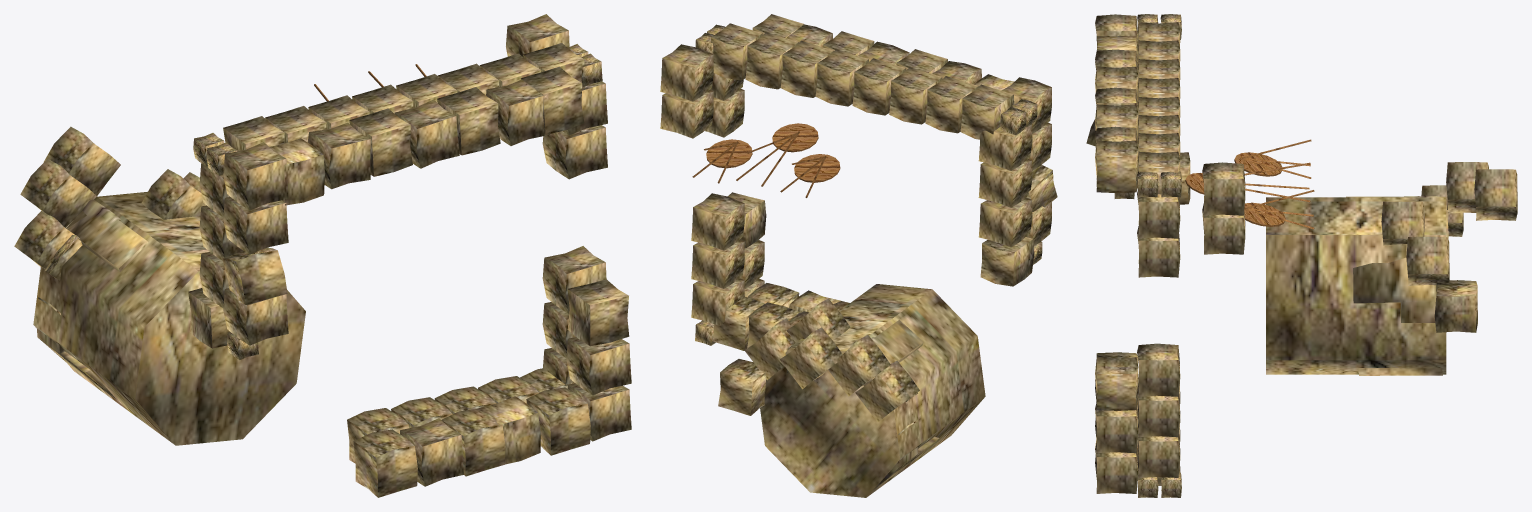
File: archery_000014.obj
3 renders of one model, left to right at view 1: azimuth 30°, elevation 25°; view 2: azimuth 150°, elevation 25°; view 3: azimuth 270°, elevation 25°, orthographic. The views are drawn at different scales.
Visible parts, largest first — view 1: Cylinder.003, Cylinder.054_Cylinder.062, Cylinder.053_Cylinder.061, Cylinder.010, Cylinder.013, Cylinder.043_Cylinder.049, Cylinder.006, Cylinder.012, Cylinder.027, Cylinder.029, Cylinder.009, Cylinder.042_Cylinder.048 (+33 smaller); view 2: Cylinder.003, Cylinder.054_Cylinder.062, Cylinder.055_Cylinder.063, Cylinder.018, Cylinder.014, Cylinder.047_Cylinder.053, Cylinder.046_Cylinder.052, Cylinder.021, Cylinder.019, Cylinder.022, Cylinder.023, Cylinder.025 (+31 smaller); view 3: Cylinder.003, Cylinder.055_Cylinder.063, Cylinder.054_Cylinder.062, Cylinder.053_Cylinder.061, Cylinder.013, Cylinder.034, Cylinder.014, Cylinder.018, Cylinder.012, Cylinder.016, Cylinder.011, Cylinder.020 (+24 smaller).
Boxes of the visible parts, bbox=[...] form: Cylinder.003: bbox=[33, 191, 305, 445]; Cylinder.054_Cylinder.062: bbox=[14, 126, 120, 280]; Cylinder.053_Cylinder.061: bbox=[37, 199, 148, 399]; Cylinder.010: bbox=[353, 429, 417, 497]; Cylinder.013: bbox=[567, 279, 629, 346]; Cylinder.043_Cylinder.049: bbox=[223, 142, 288, 210]; Cylinder.006: bbox=[526, 387, 590, 455]; Cylinder.012: bbox=[566, 337, 631, 395]; Cylinder.027: bbox=[307, 122, 370, 189]; Cylinder.029: bbox=[394, 99, 459, 168]; Cylinder.009: bbox=[400, 418, 463, 486]; Cylinder.042_Cylinder.048: bbox=[223, 197, 288, 254]; Cylinder.003: bbox=[760, 284, 985, 497]; Cylinder.054_Cylinder.062: bbox=[780, 327, 919, 422]; Cylinder.055_Cylinder.063: bbox=[718, 298, 850, 415]; Cylinder.018: bbox=[691, 193, 744, 250]; Cylinder.014: bbox=[660, 44, 713, 101]; Cylinder.047_Cylinder.053: bbox=[980, 237, 1034, 286]; Cylinder.046_Cylinder.052: bbox=[978, 197, 1032, 247]; Cylinder.021: bbox=[815, 49, 868, 106]; Cylinder.019: bbox=[691, 239, 744, 288]; Cylinder.022: bbox=[852, 58, 905, 115]; Cylinder.023: bbox=[889, 67, 942, 124]; Cylinder.025: bbox=[960, 84, 1014, 139]; Cylinder.003: bbox=[1266, 197, 1446, 374]; Cylinder.055_Cylinder.063: bbox=[1381, 201, 1477, 332]; Cylinder.054_Cylinder.062: bbox=[1421, 162, 1517, 236]; Cylinder.053_Cylinder.061: bbox=[1346, 196, 1448, 375]; Cylinder.013: bbox=[1095, 357, 1138, 410]; Cylinder.034: bbox=[1095, 140, 1138, 193]; Cylinder.014: bbox=[1202, 162, 1245, 215]; Cylinder.018: bbox=[1137, 343, 1180, 396]; Cylinder.012: bbox=[1095, 401, 1138, 453]; Cylinder.016: bbox=[1137, 191, 1180, 238]; Cylinder.011: bbox=[1095, 442, 1138, 493]; Cylinder.020: bbox=[1138, 426, 1180, 477].
Bounding box in the file's own units: 9.16 × 7.81 × 9.39.
